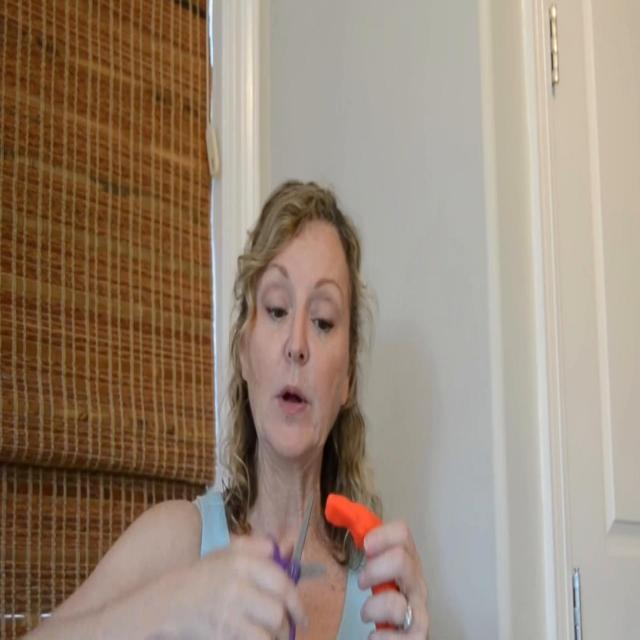scissor: (270, 493, 325, 640)
